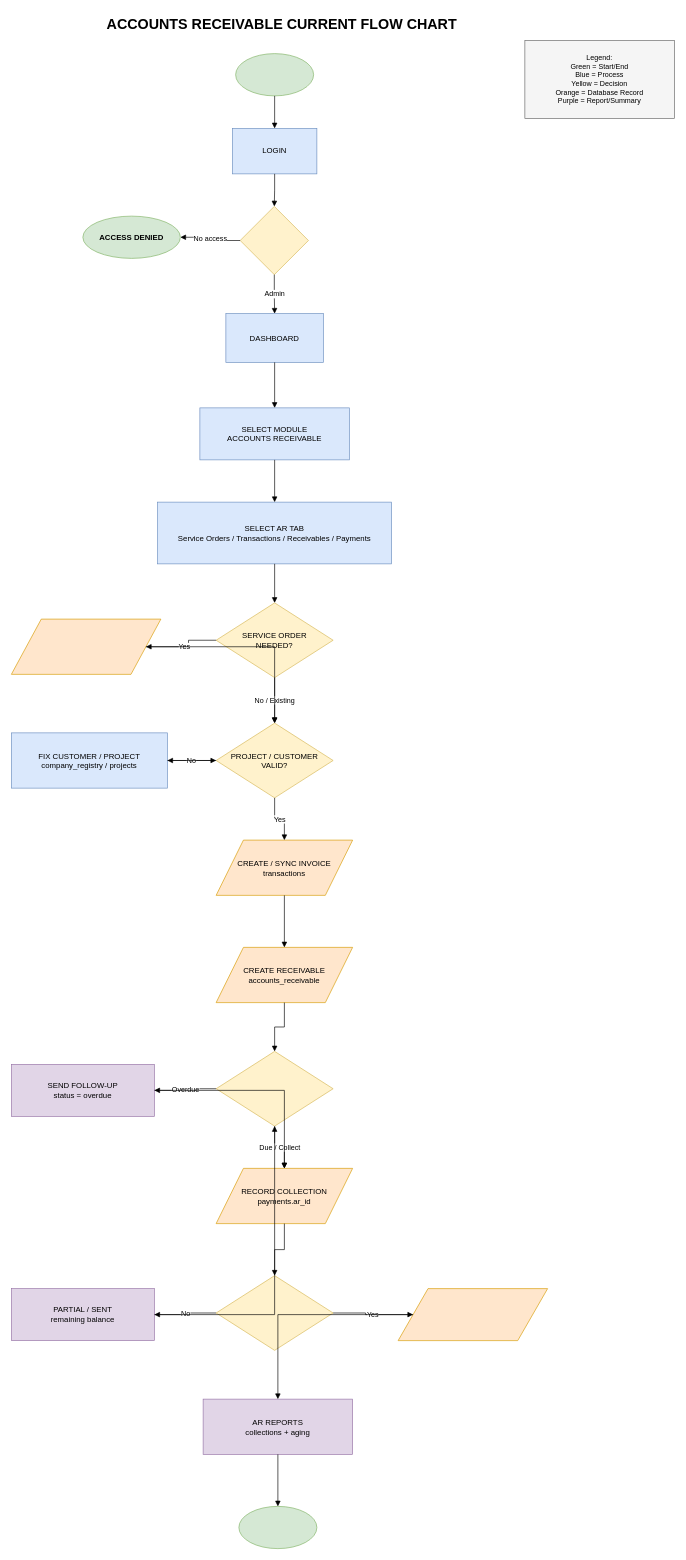
This 686x1560 diagram has some shape labels left out. The centre of each missing label's shape, as x and y in pixels:
"CREATE SERVICE ORDER service_orders" goes at (x=86, y=646).
"END" goes at (x=277, y=1527).
"FULLY PAID?" goes at (x=274, y=1312).
"INVOICE DUE / OVERDUE?" goes at (x=274, y=1088).
"MARK PAID AR + transaction status" goes at (x=472, y=1314).
"ROLE CHECK?" goes at (x=274, y=240).
"START" goes at (x=274, y=74).
